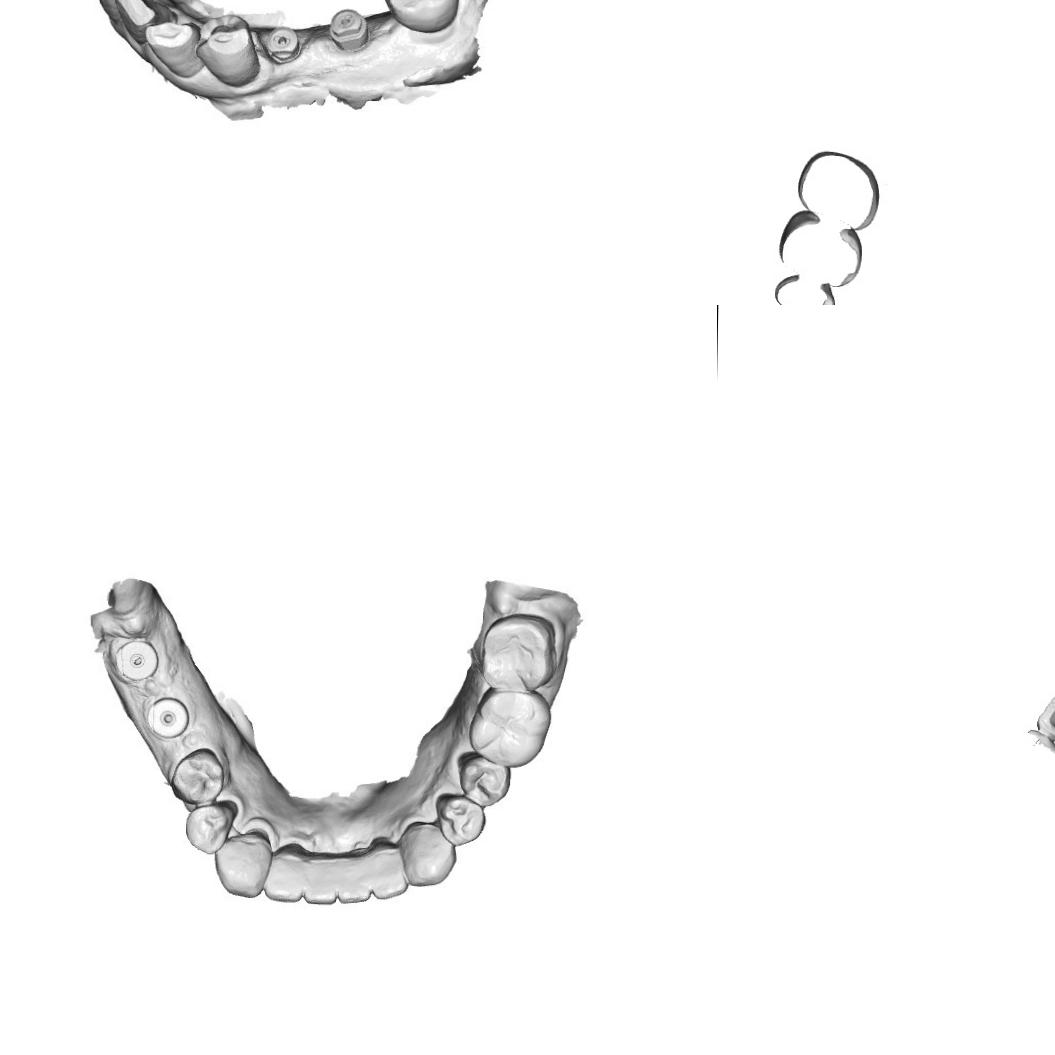canine: (396, 816, 456, 890), (142, 18, 202, 80), (214, 834, 270, 898)
implant: (147, 696, 191, 741), (114, 637, 156, 683)
implant_minus: (330, 5, 368, 50), (268, 28, 301, 66)
incisor: (115, 0, 178, 42), (264, 842, 310, 899), (370, 846, 407, 900), (340, 852, 374, 904), (304, 853, 336, 904), (1035, 686, 1055, 743), (90, 0, 124, 29)
molar: (469, 684, 552, 769), (479, 612, 561, 694), (378, 0, 462, 35)
premolar: (198, 14, 259, 84), (170, 744, 225, 812), (454, 755, 513, 808), (436, 794, 488, 850), (184, 798, 234, 853)
